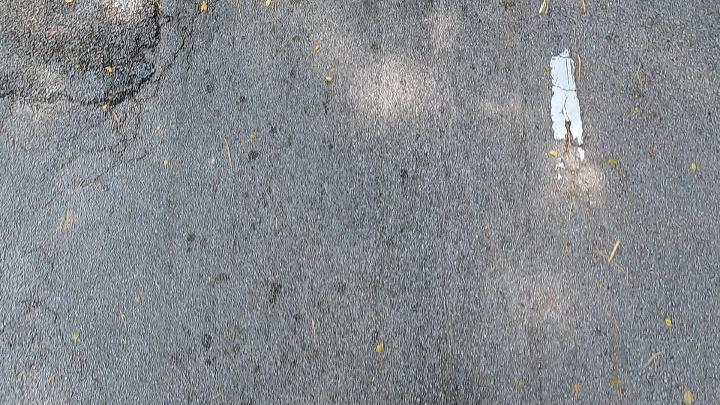Lane: (540, 46, 584, 152), (550, 49, 582, 144)
Pothole: (0, 0, 217, 131), (0, 0, 218, 128)
